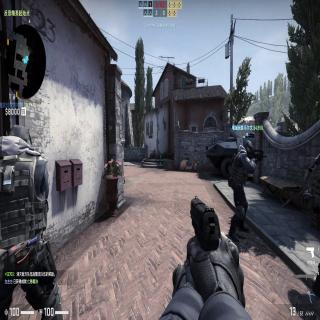CT-Body: (227, 141, 267, 242)
CT-Head: (242, 140, 254, 157)
